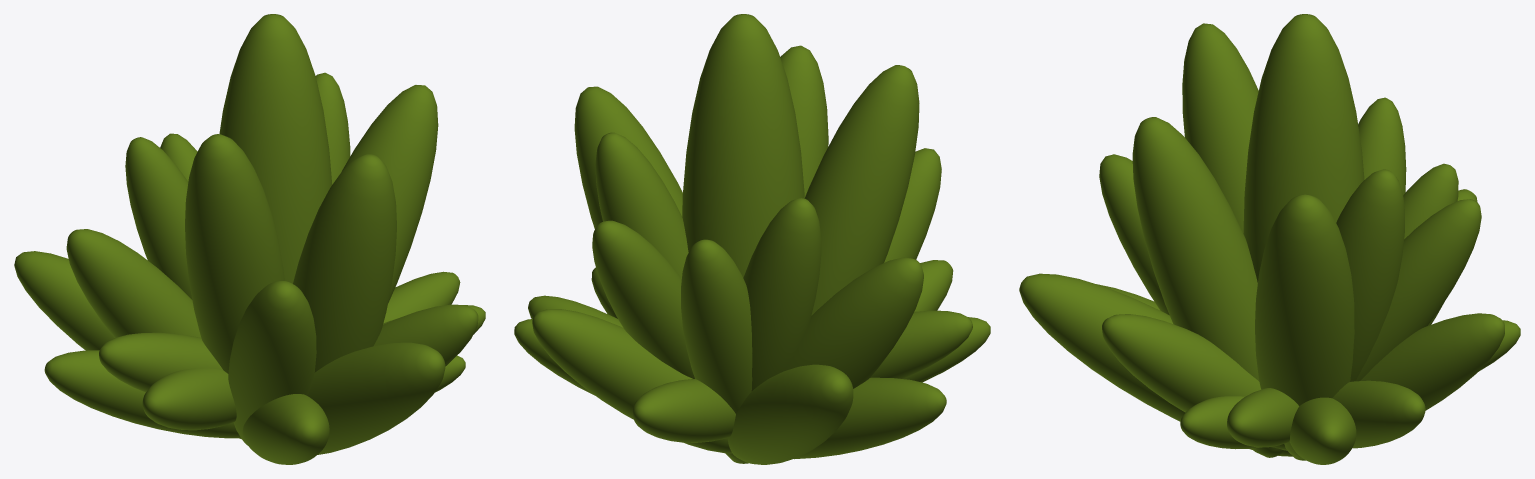
Rendered from SM_Bush_02.fbx.
3 renders of one model, left to right at view 1: azimuth 30°, elevation 25°; view 2: azimuth 150°, elevation 25°; view 3: azimuth 270°, elevation 25°, orthographic. The views are drawn at different scales.
Parts seen in each view (by area): view 1: Sphere.003; view 2: Sphere.003; view 3: Sphere.003.
Boxes of the visible parts, x1=… form: Sphere.003: x1=14, y1=14, x2=485, y2=464; Sphere.003: x1=514, y1=14, x2=990, y2=464; Sphere.003: x1=1019, y1=14, x2=1520, y2=464.
Bounding box in the file's own units: 207 × 212 × 216.
